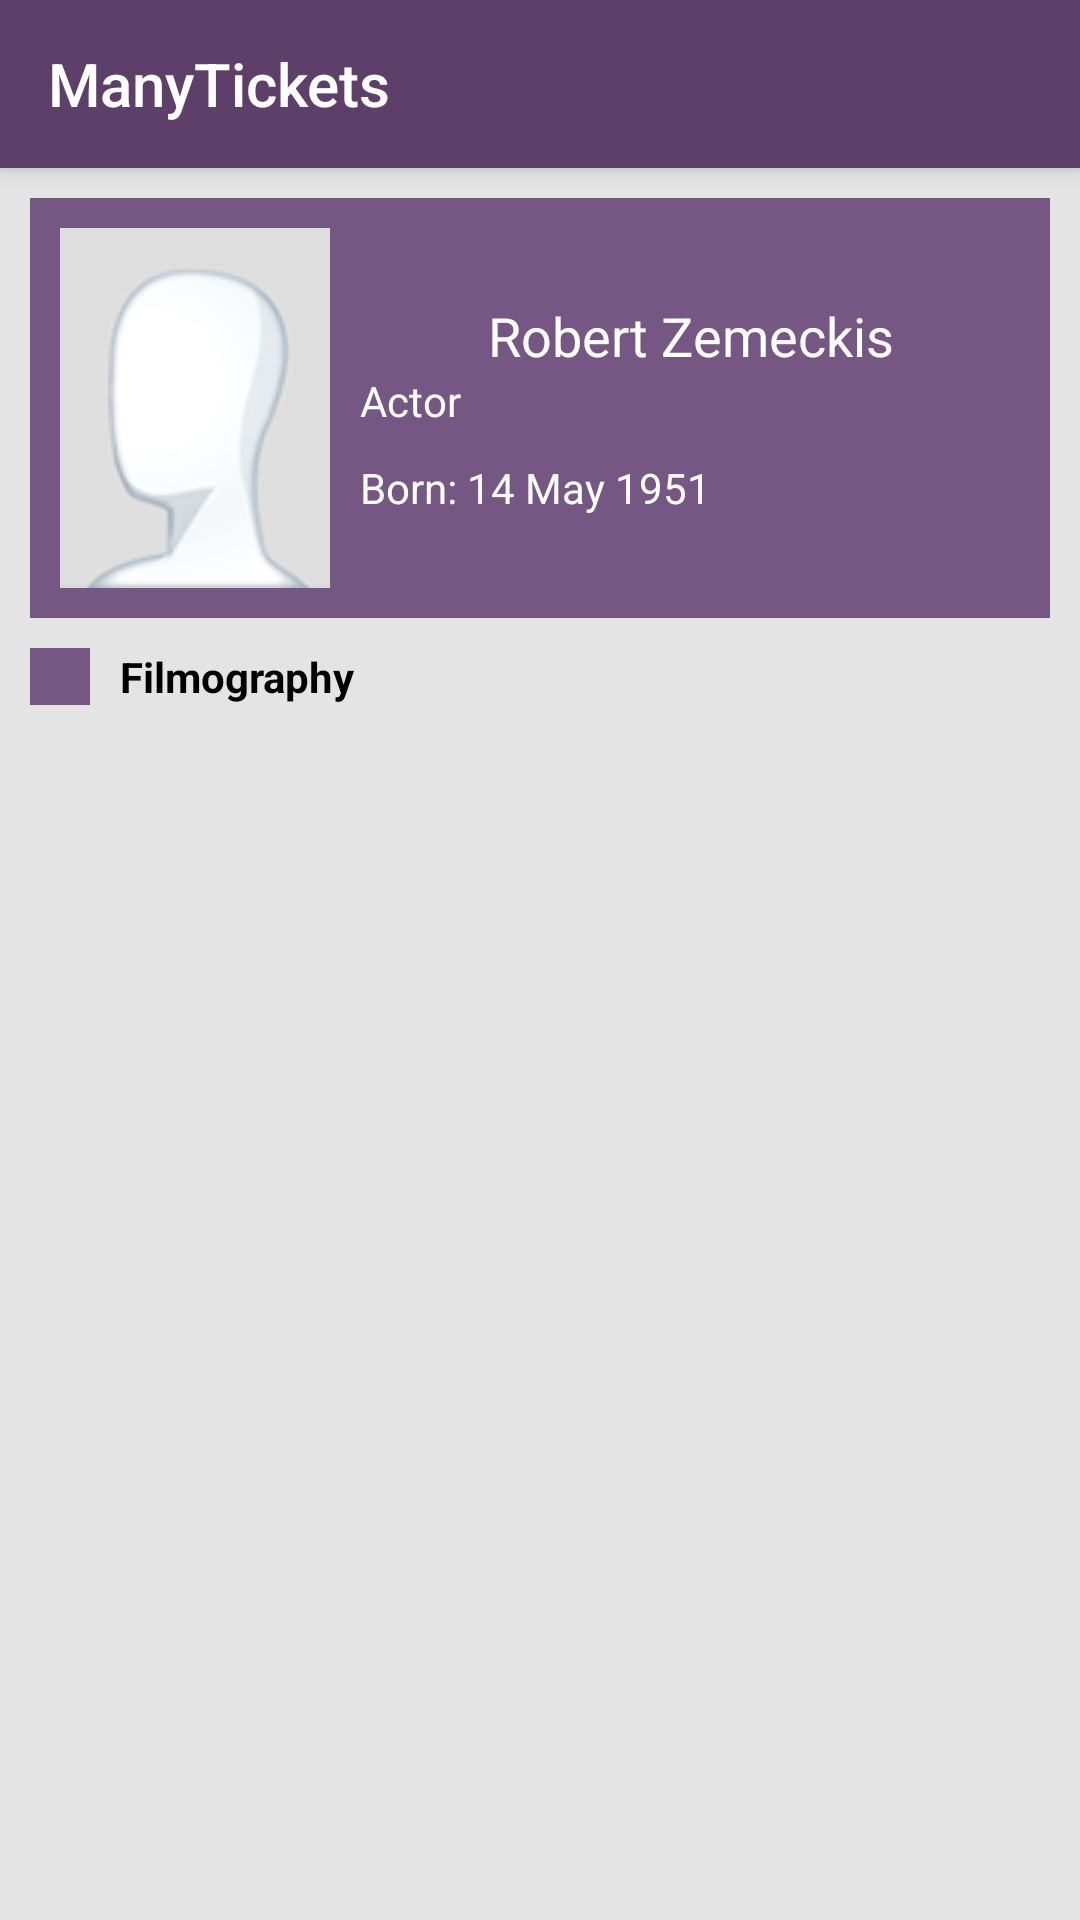

Point at icon controls on the screen. Image size 1080×1920, points as [x,y].
person: [195,408]
